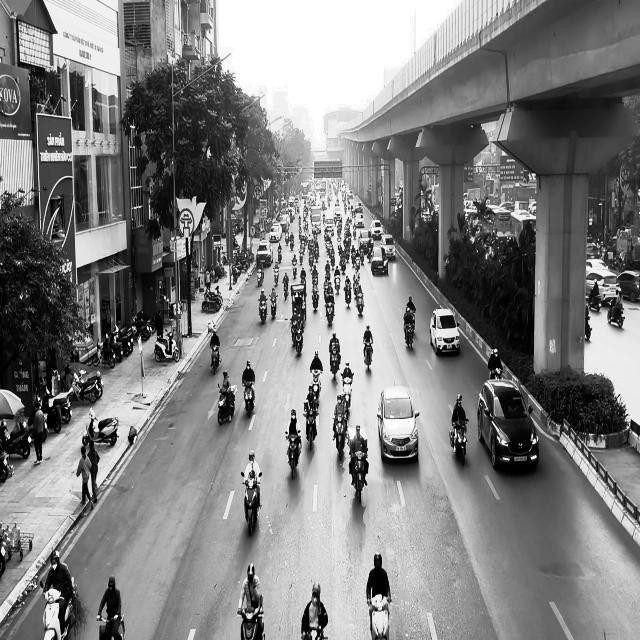car: (477, 378, 539, 471), (376, 384, 419, 462), (429, 308, 460, 356)
motorbike: (40, 578, 76, 640), (240, 470, 262, 536), (237, 594, 264, 640), (348, 450, 368, 503), (367, 595, 391, 639), (449, 418, 469, 466), (217, 383, 237, 425), (154, 329, 179, 362), (285, 431, 301, 479), (332, 409, 347, 460), (97, 614, 125, 640), (303, 406, 319, 450), (290, 320, 304, 356), (607, 299, 625, 327), (242, 380, 255, 416), (342, 375, 353, 416), (403, 314, 415, 349), (310, 369, 322, 401), (329, 347, 340, 379), (210, 343, 221, 374), (363, 342, 373, 369), (258, 297, 267, 323), (270, 292, 278, 318), (257, 263, 264, 286)
